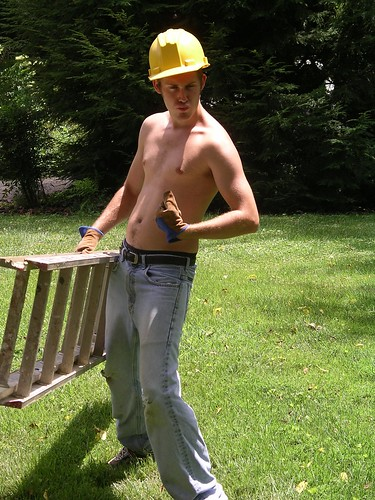person hardhat: (59, 27, 263, 500)
